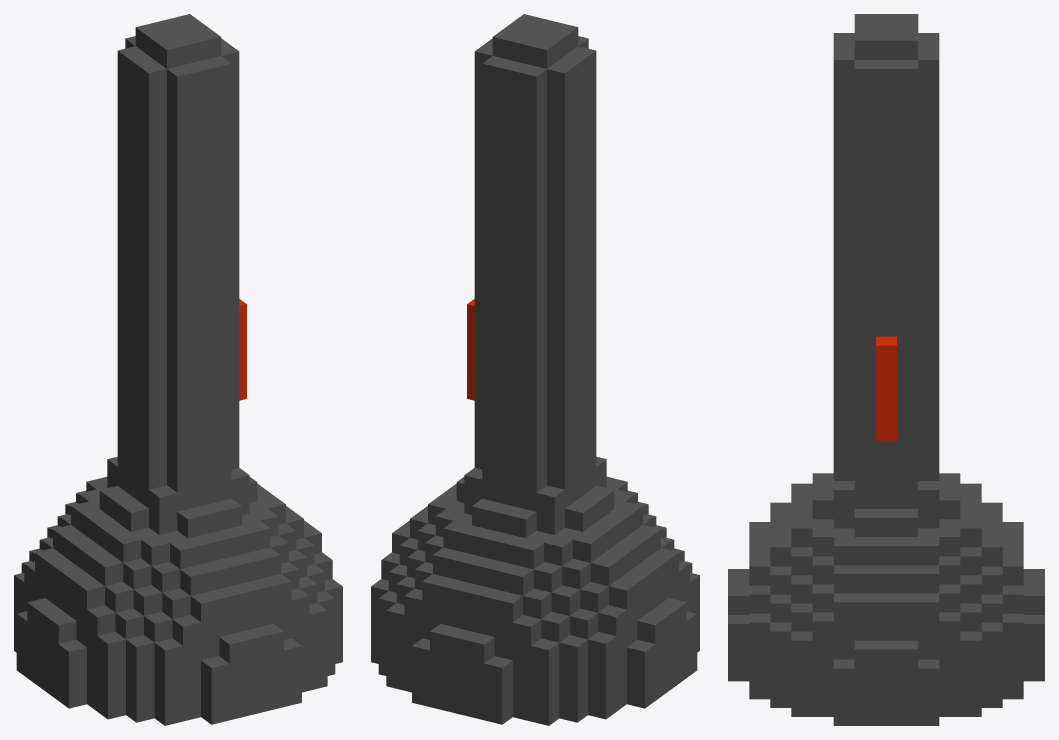
File: lampe_torche.obj
The picture shows the model from 3 angles, left to right: view 1: azimuth 30°, elevation 25°; view 2: azimuth 150°, elevation 25°; view 3: azimuth 270°, elevation 25°; orthographic projection.
Bounding box in the file's own units: 15 × 33 × 15.
Materials: 1 (1 with a texture image).
